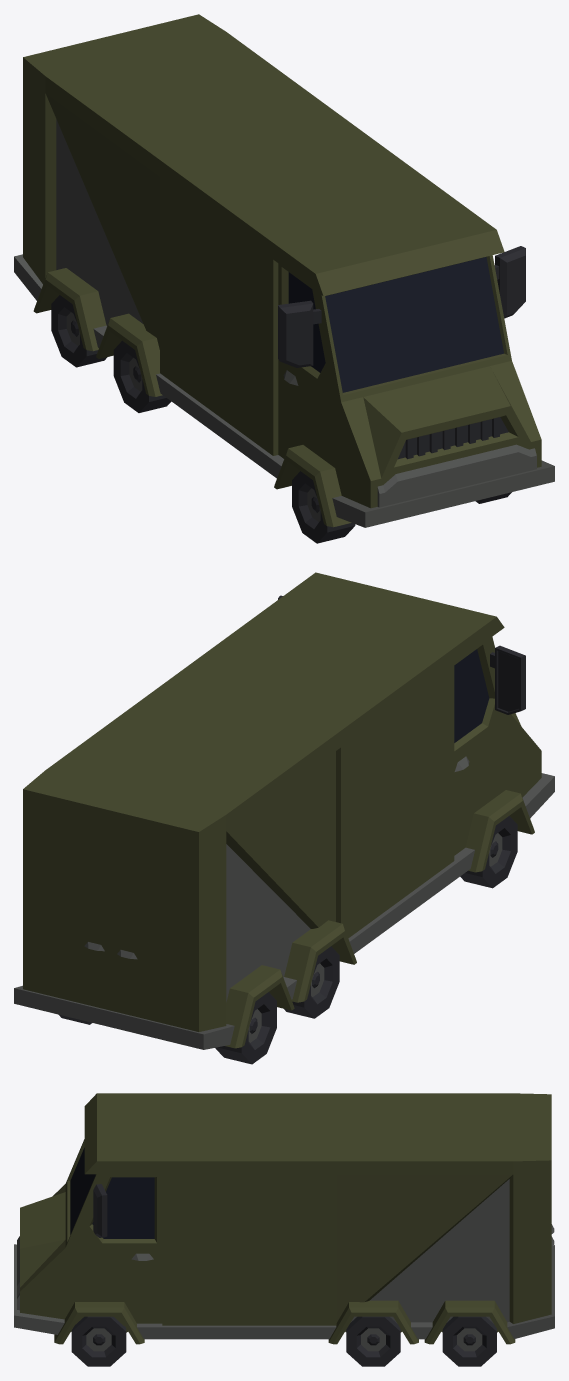
The model's file is LPWarPack_Truck3.fbx.
The picture shows the model from 3 angles, top to bottom: view 1: azimuth 30°, elevation 25°; view 2: azimuth 150°, elevation 25°; view 3: azimuth 270°, elevation 25°; orthographic projection. The views are drawn at different scales.
Parts seen in each view (by area): view 1: Truck3; view 2: Truck3; view 3: Truck3.
Boxes of the visible parts, left/top/right/bottom form: Truck3: left=14, top=14, right=554, bottom=543; Truck3: left=14, top=572, right=554, bottom=1064; Truck3: left=14, top=1093, right=554, bottom=1366.
Size of the model in its own units: 219 by 225 by 542.
